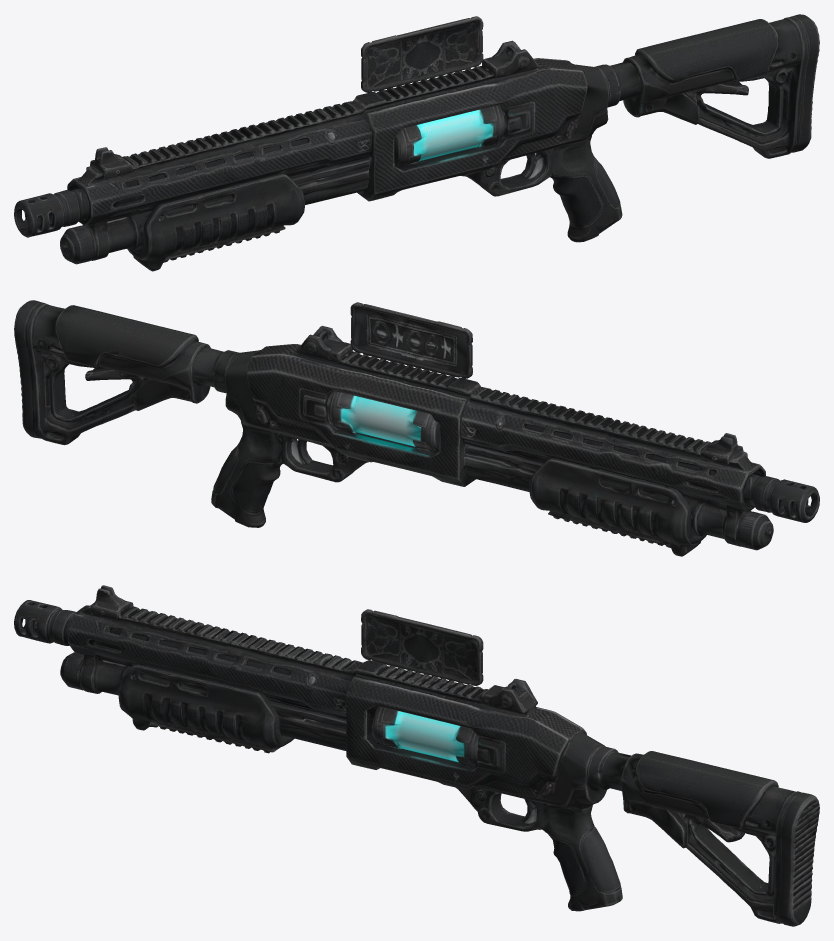
The model's file is fps_heavy_shotgun.glb.
3 views of the same model, one above another, from view 1: azimuth 30°, elevation 25°; view 2: azimuth 150°, elevation 25°; view 3: azimuth 330°, elevation 25° (orthographic).
Bounding box in the file's own units: 1.9 × 0.5714 × 0.148.
Materials: 1 (1 with a texture image).
